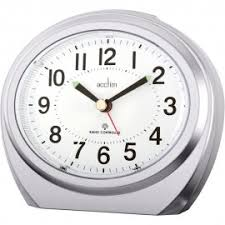alarm_clock: (0, 1, 222, 217)
